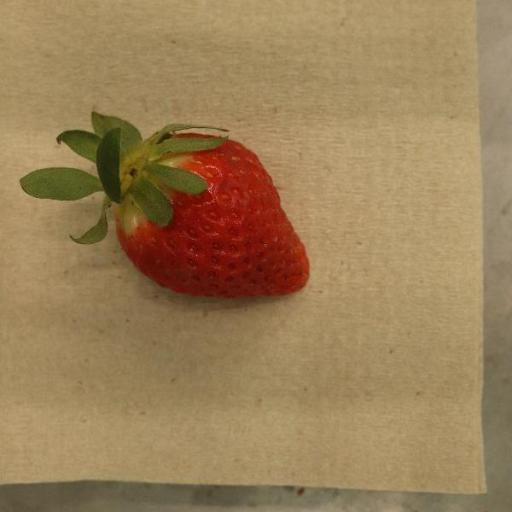Strawberry: (20, 112, 311, 299)
